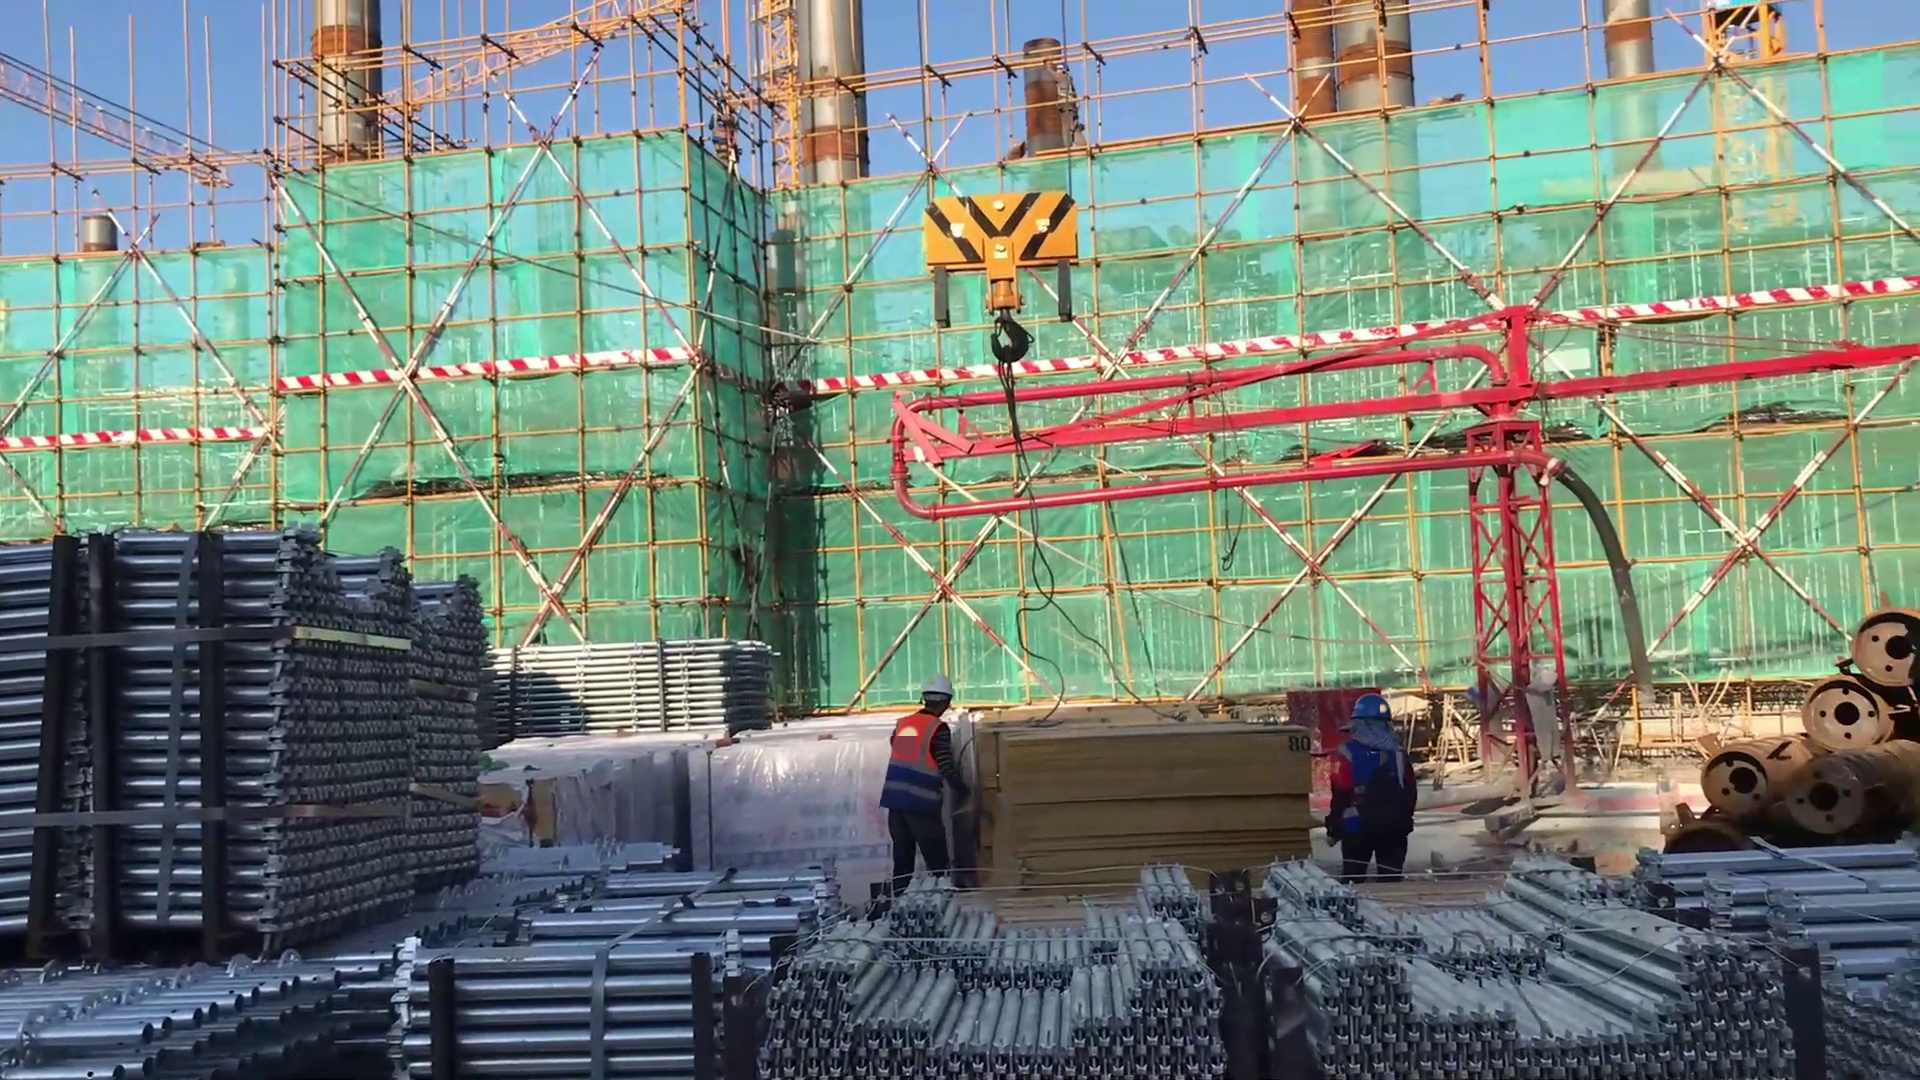board: (984, 722, 1311, 881)
helmet: (1343, 695, 1405, 726), (920, 675, 954, 720)
hook: (916, 166, 1100, 426)
person: (1323, 690, 1422, 893), (881, 678, 967, 897), (1044, 52, 1084, 160)
scaffold: (1, 514, 505, 957), (1227, 846, 1802, 1080), (763, 844, 1262, 1080), (426, 830, 825, 1080), (1631, 827, 1916, 1080), (1, 934, 430, 1076), (487, 626, 776, 752)
vest: (1334, 734, 1418, 846), (882, 710, 950, 820)
